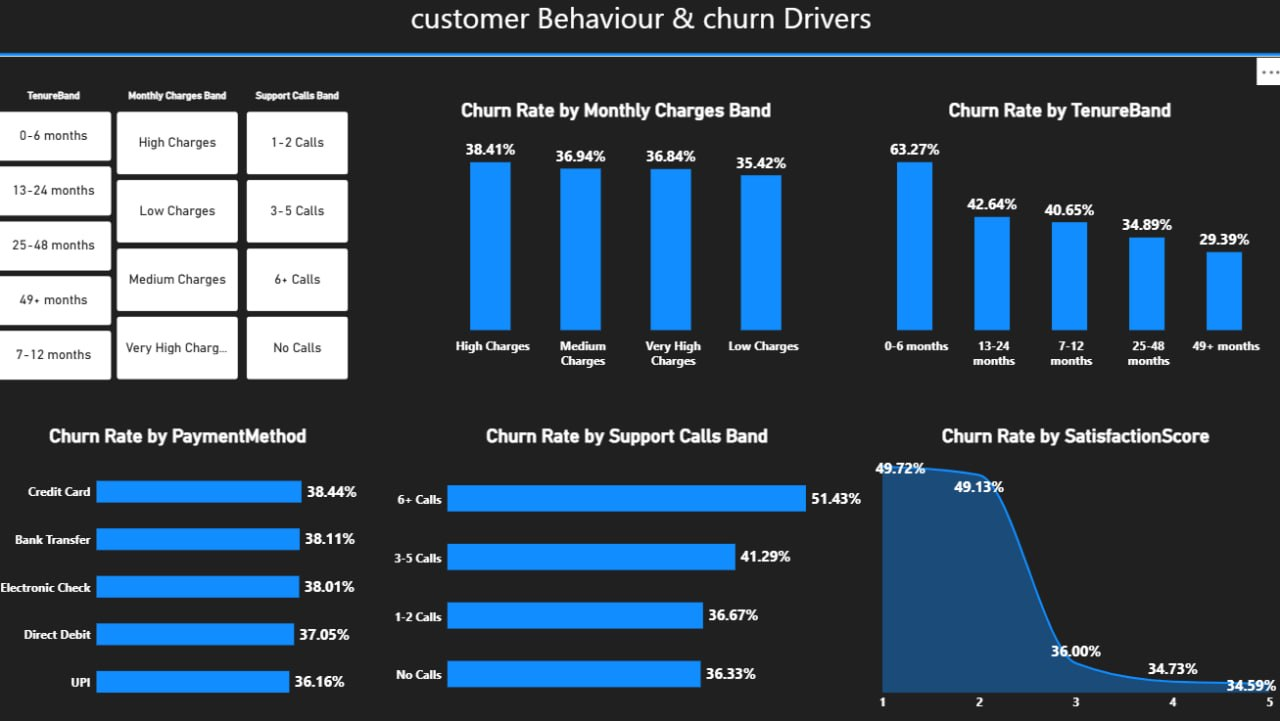

Layout of this report page (visuals, bound fields, positions):
{"tool":"powerbi","page":{"name":"Page 2","canvas":[1920,1080],"ordinal":1},"visuals":[{"type":"textbox","box":[10.9,0,1909.2,92.3],"z":0},{"type":"columnChart","fields":{"Category":["customer_churn_dataset.TenureBand"],"Y":["customer_churn_dataset.Churn Rate"]},"box":[1248.7,141.2,671.4,430.7],"z":1000},{"type":"clusteredColumnChart","fields":{"Category":["customer_churn_dataset.Monthly Charges Band"],"Y":["customer_churn_dataset.Churn Rate"]},"box":[608,141.2,640.6,430.7],"z":2000},{"type":"barChart","fields":{"Category":["customer_churn_dataset.Support Calls Band"],"Y":["customer_churn_dataset.Churn Rate"]},"box":[582.7,622.5,723.9,457.8],"z":3000},{"type":"areaChart","fields":{"Category":["customer_churn_dataset.SatisfactionScore"],"Y":["customer_churn_dataset.Churn Rate"]},"box":[1295.7,622.5,624.3,457.8],"z":4000},{"type":"barChart","fields":{"Category":["customer_churn_dataset.PaymentMethod"],"Y":["customer_churn_dataset.Churn Rate"]},"box":[0,622.5,561,458],"z":5000},{"type":"advancedSlicerVisual","fields":{"Values":["customer_churn_dataset.TenureBand"]},"box":[10.9,141.2,171.9,430.7],"z":6000},{"type":"advancedSlicerVisual","fields":{"Values":["customer_churn_dataset.Monthly Charges Band"]},"box":[190,141.2,179.2,430.7],"z":7000},{"type":"advancedSlicerVisual","fields":{"Values":["customer_churn_dataset.Support Calls Band"]},"box":[381.8,141.2,150.2,430.7],"z":8000}]}

Visuals, with their boxes in screenshot pixels (x1, y1, x2, y2), scaled from the page's 1920x1080 canvas onto the 1280x721 screenshot:
textbox: select_region(7, 0, 1279, 62)
columnChart - customer_churn_dataset.TenureBand x customer_churn_dataset.Churn Rate: select_region(832, 94, 1279, 382)
clusteredColumnChart - customer_churn_dataset.Monthly Charges Band x customer_churn_dataset.Churn Rate: select_region(405, 94, 832, 382)
barChart - customer_churn_dataset.Support Calls Band x customer_churn_dataset.Churn Rate: select_region(388, 416, 871, 720)
areaChart - customer_churn_dataset.SatisfactionScore x customer_churn_dataset.Churn Rate: select_region(864, 416, 1279, 720)
barChart - customer_churn_dataset.PaymentMethod x customer_churn_dataset.Churn Rate: select_region(0, 416, 374, 720)
advancedSlicerVisual - customer_churn_dataset.TenureBand: select_region(7, 94, 122, 382)
advancedSlicerVisual - customer_churn_dataset.Monthly Charges Band: select_region(127, 94, 246, 382)
advancedSlicerVisual - customer_churn_dataset.Support Calls Band: select_region(255, 94, 355, 382)
